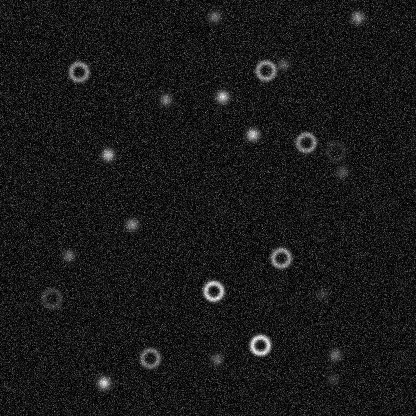Ring: (137, 345, 161, 369), (39, 286, 63, 310), (268, 245, 292, 269), (323, 139, 347, 163), (201, 278, 225, 302), (248, 332, 272, 356), (66, 59, 90, 83), (253, 58, 277, 82), (293, 130, 317, 154)
Spot: (95, 374, 111, 390), (326, 346, 342, 362), (206, 8, 222, 24), (324, 370, 340, 386), (157, 91, 173, 107), (349, 9, 365, 25), (244, 126, 260, 142), (275, 56, 291, 72), (333, 163, 349, 179), (214, 88, 230, 104), (208, 350, 224, 366), (99, 146, 115, 162), (314, 285, 330, 301), (60, 247, 76, 263), (123, 216, 139, 232)
